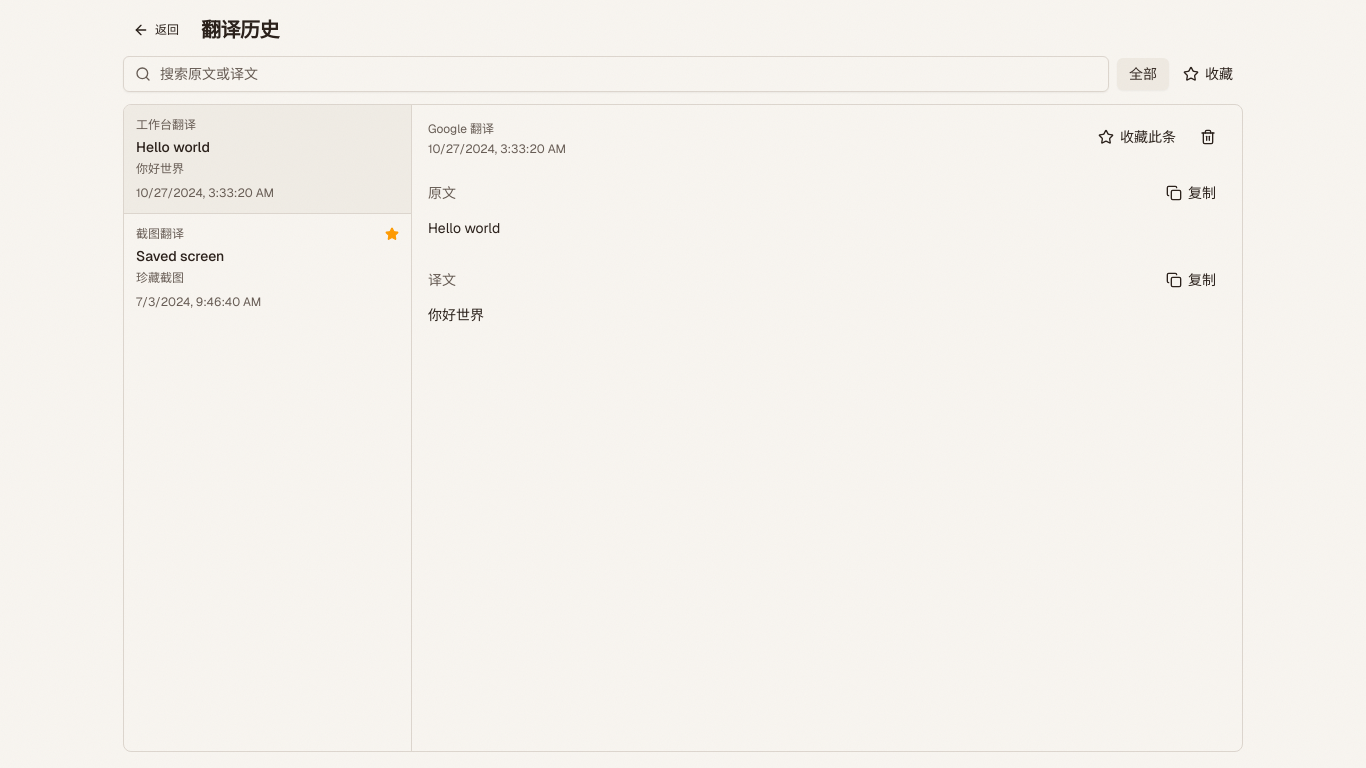
Test: translation history › searches original and translated text and combines search with favorites
Type "HELLO" into the field named "搜索翻译历史" at (616, 74), box [123, 56, 1109, 92]
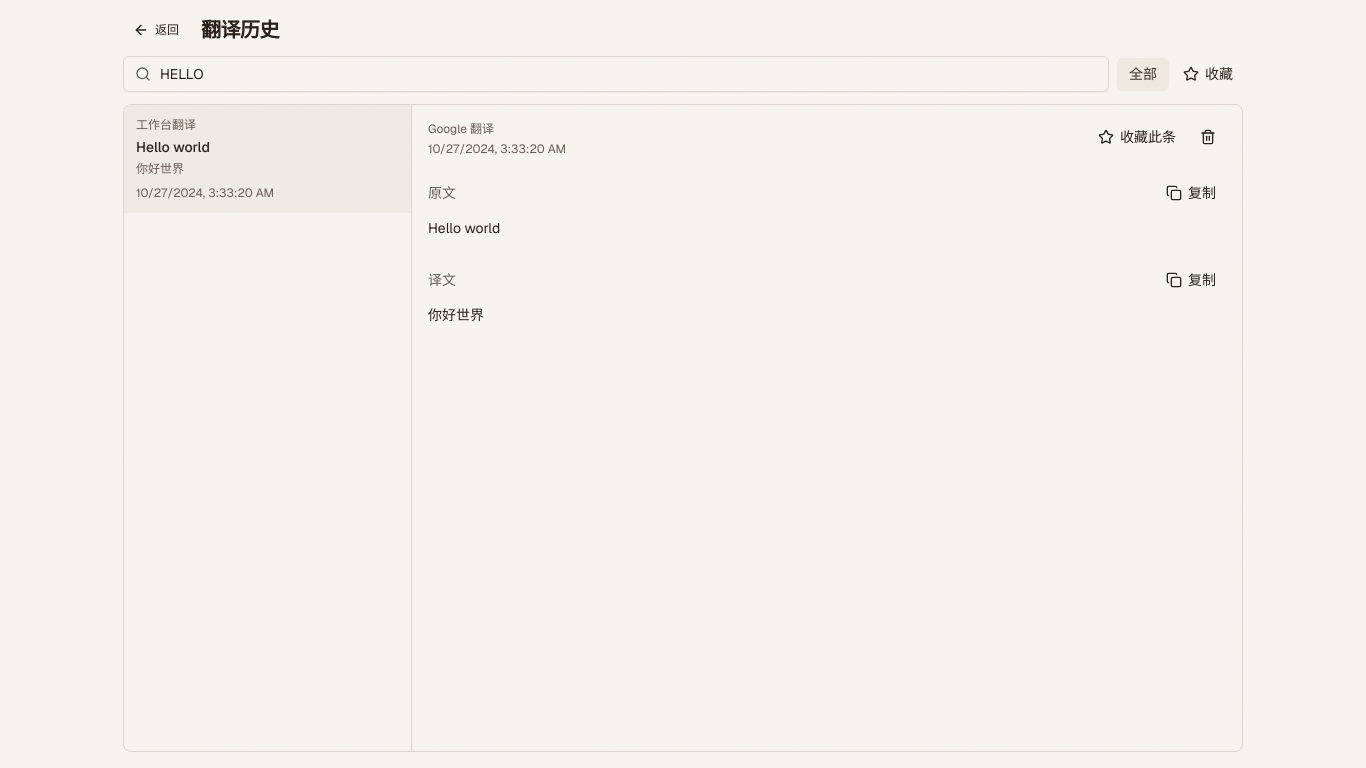
Expected: the 1st text "Hello world" is shown, [136, 138, 210, 156]
Replace the text in the field named "搜索翻译历史" with "珍藏" at (616, 74), box [123, 56, 1109, 92]
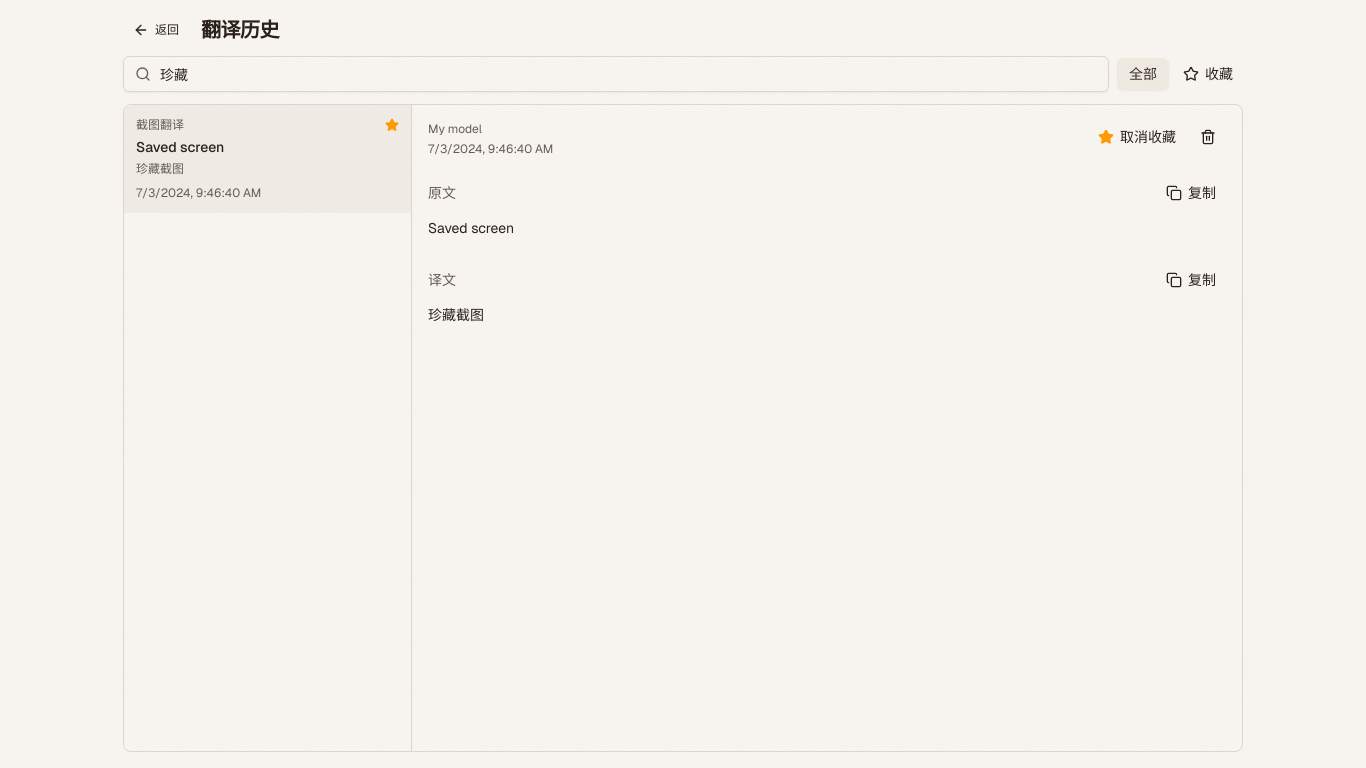
Expected: the 1st text "Saved screen" is shown, [136, 138, 224, 156]
Clear the field named "搜索翻译历史" at (616, 74), box [123, 56, 1109, 92]
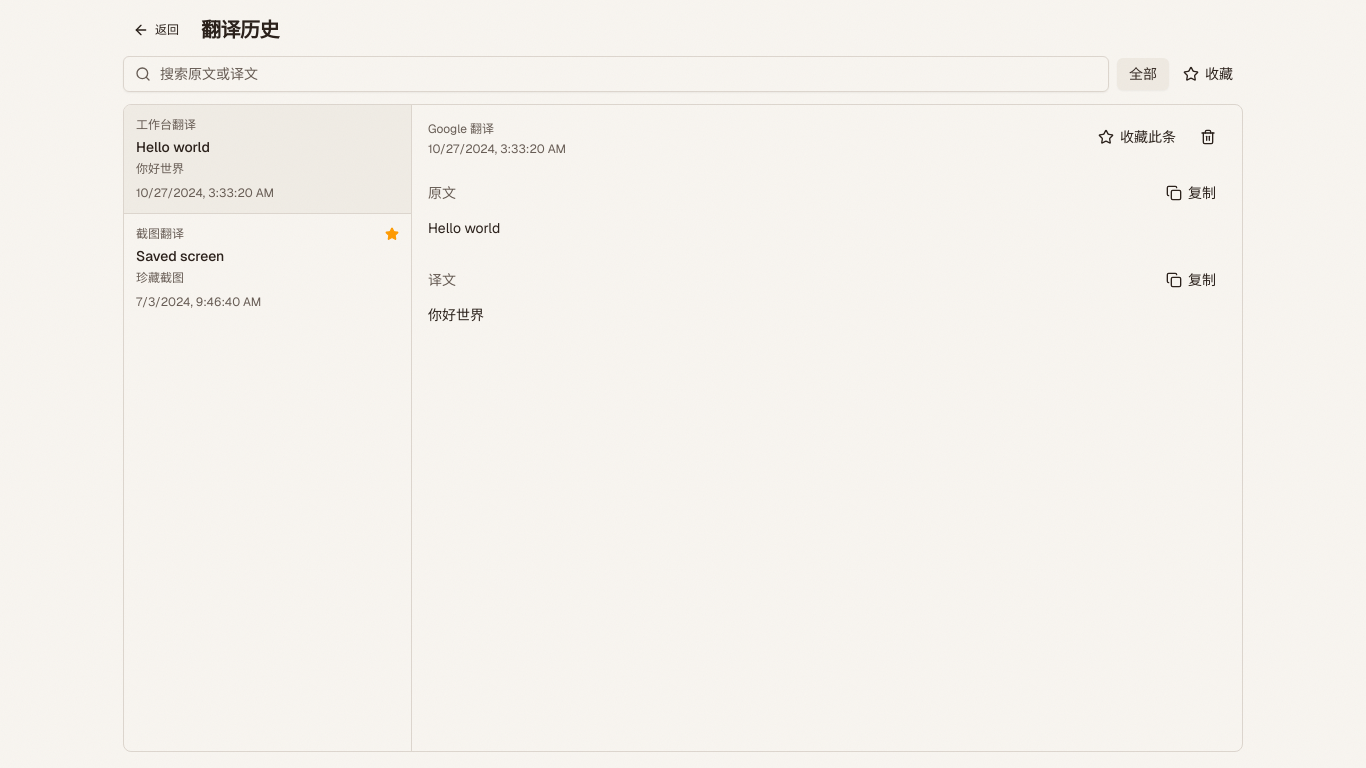
Click the button "收藏" at (1208, 74), box [1173, 58, 1243, 90]
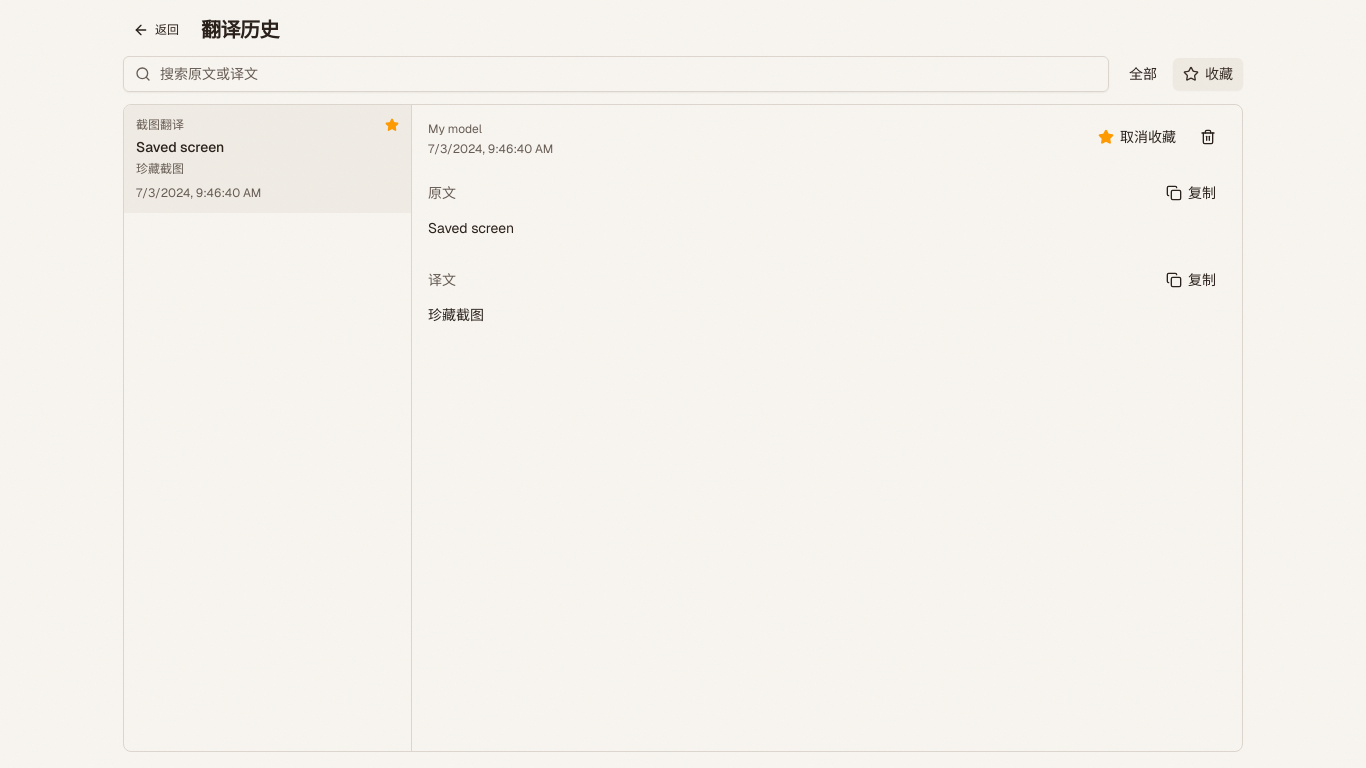
Expected: the button "取消收藏" is shown, [1088, 121, 1186, 153]
Type "hello" into the field named "搜索翻译历史" at (616, 74), box [123, 56, 1109, 92]
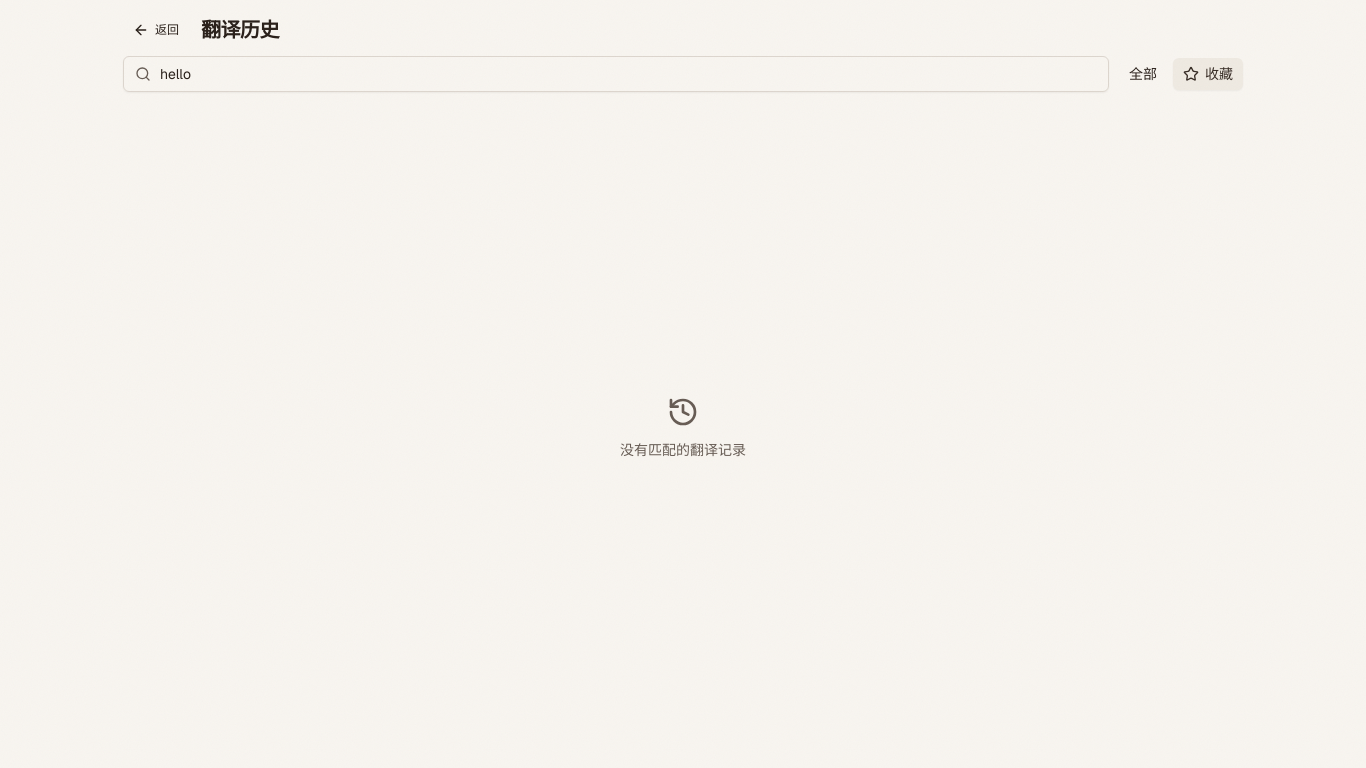
Expected: the text "没有匹配的翻译记录" is shown, [620, 440, 746, 460]
